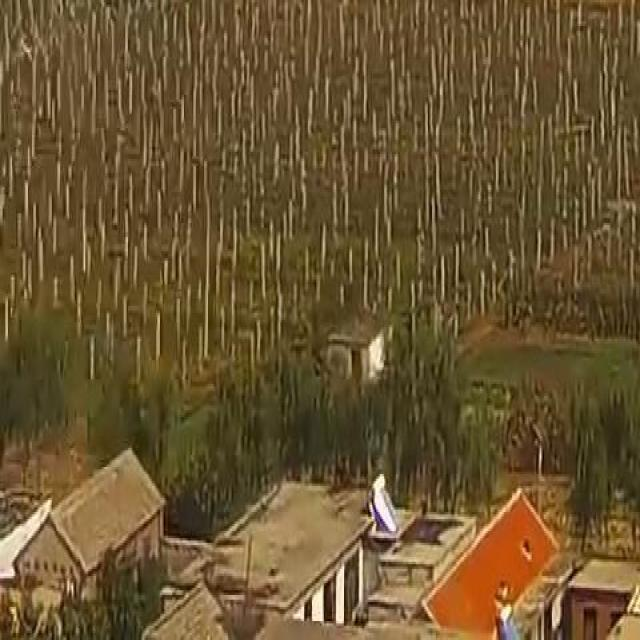other: (441, 505, 542, 627)
